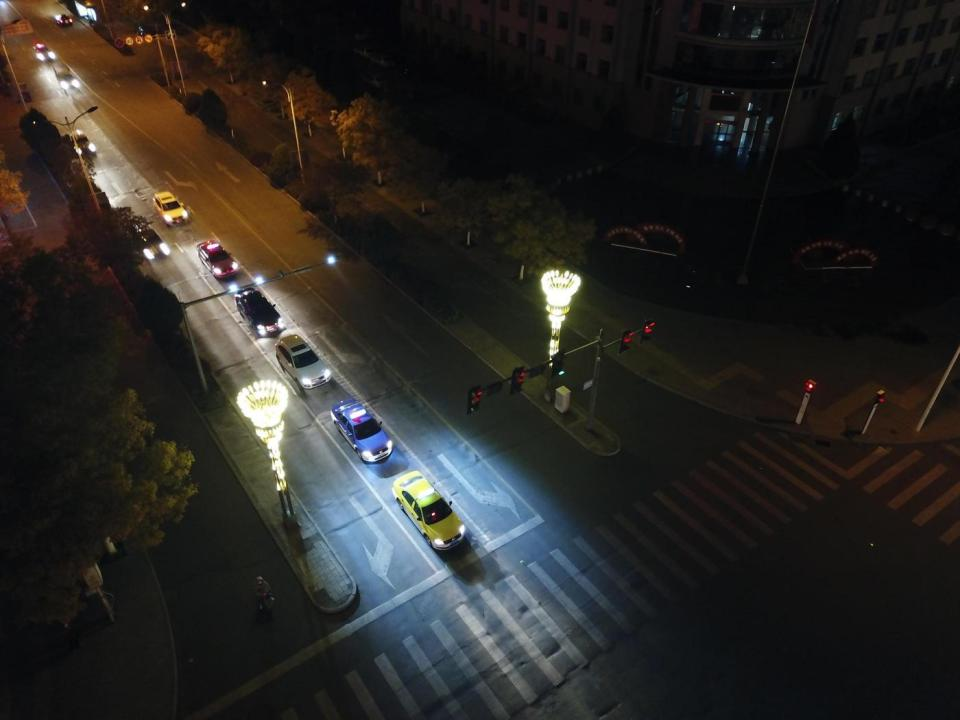car: (392, 470, 466, 550), (332, 398, 395, 463), (274, 332, 333, 393), (234, 287, 282, 339), (197, 240, 238, 278), (130, 227, 170, 261), (153, 192, 188, 227), (68, 128, 94, 155), (35, 41, 56, 63), (361, 72, 386, 88), (58, 68, 76, 90), (372, 53, 394, 68), (355, 43, 373, 57), (56, 10, 73, 24)
